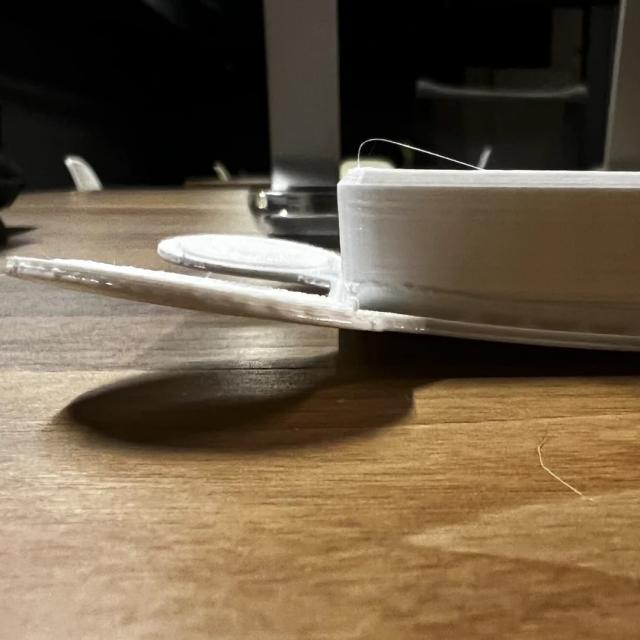Warping: (26, 246, 533, 384)
